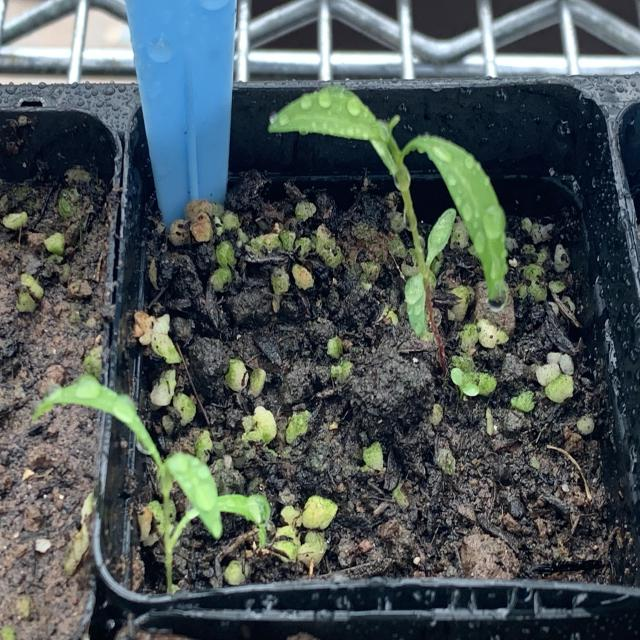white_smart_weed: (272, 72, 528, 337), (42, 328, 266, 580)
